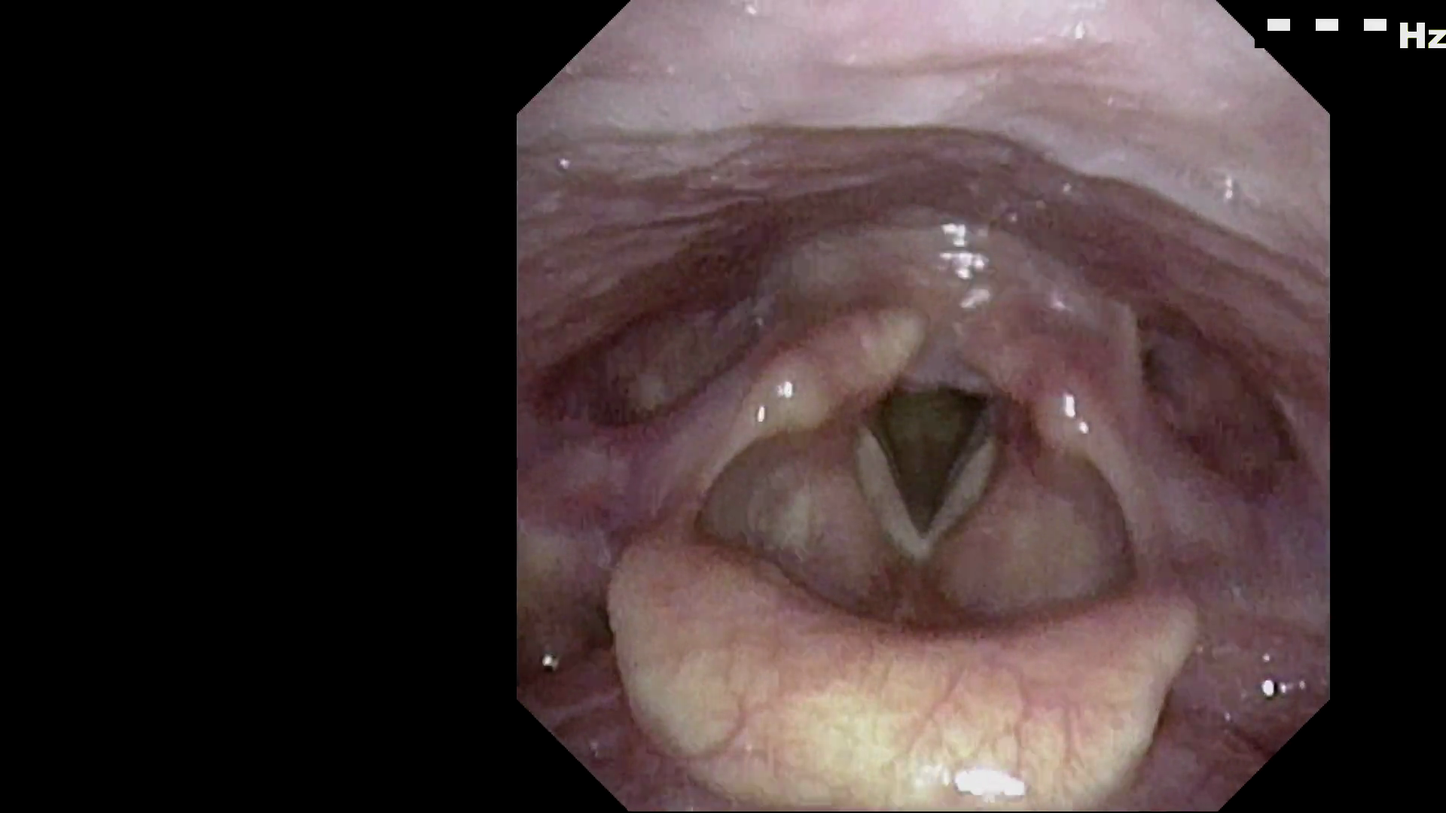epiglottis: (610, 503, 1215, 776)
trachea: (851, 335, 1030, 560)
